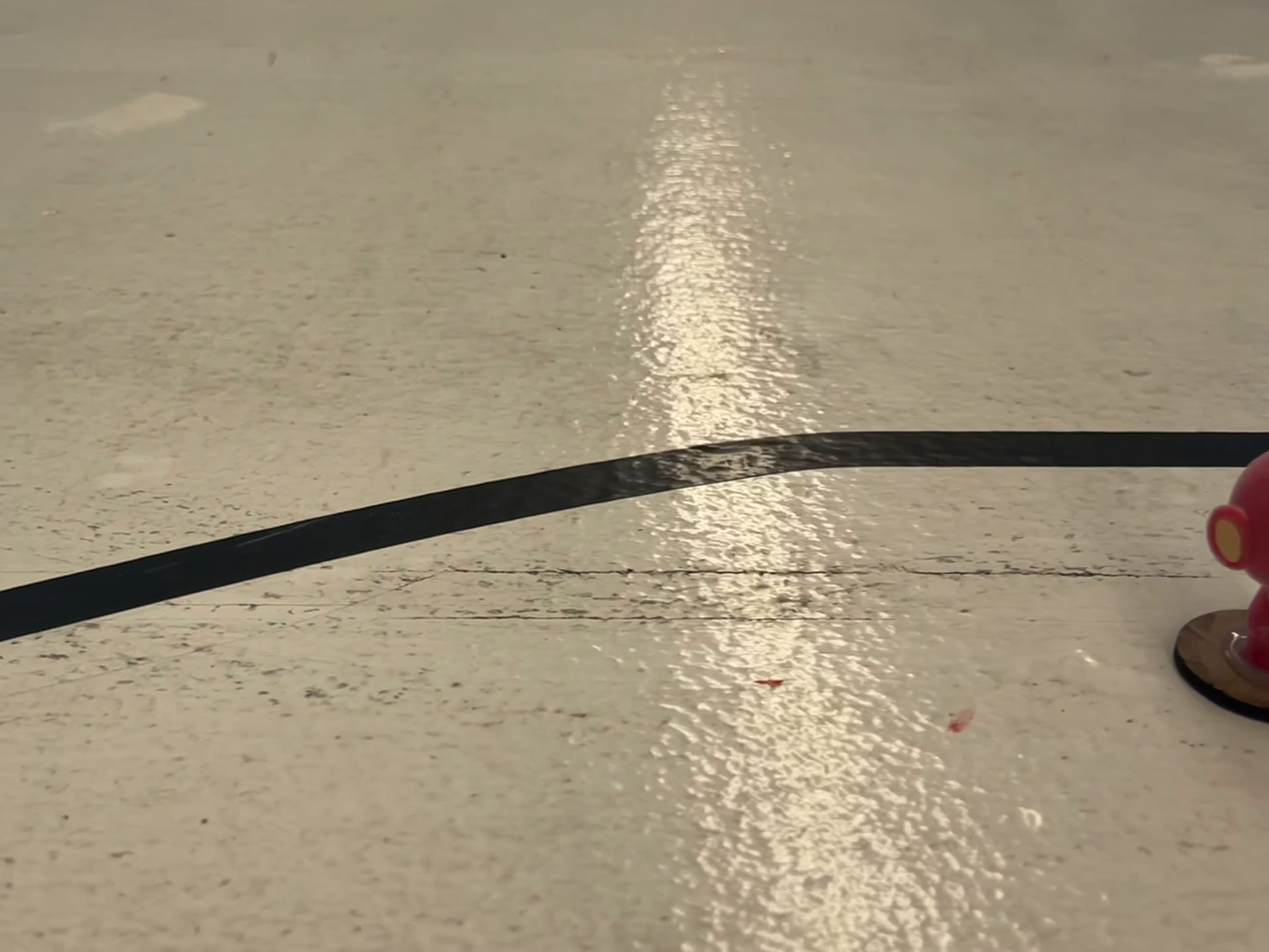teletubby: (1207, 452, 1268, 670)
